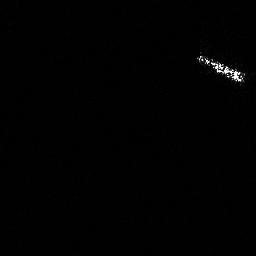ship: (195, 50, 247, 87)
